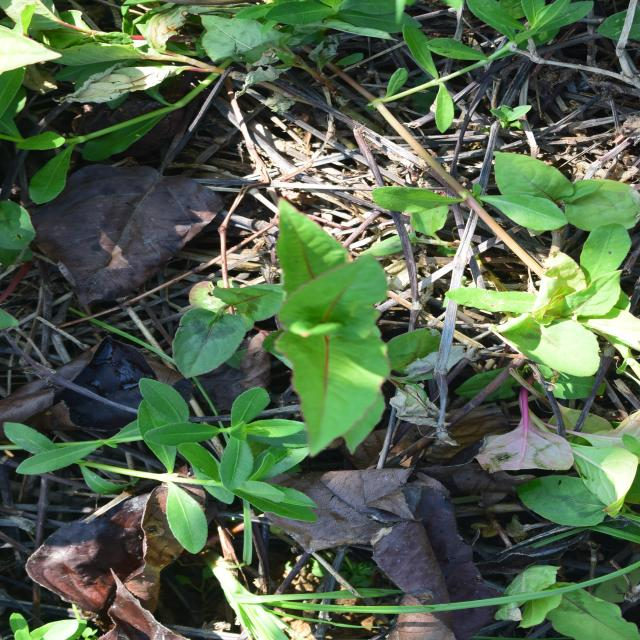Chinese_knotweed: (200, 226, 446, 404)
